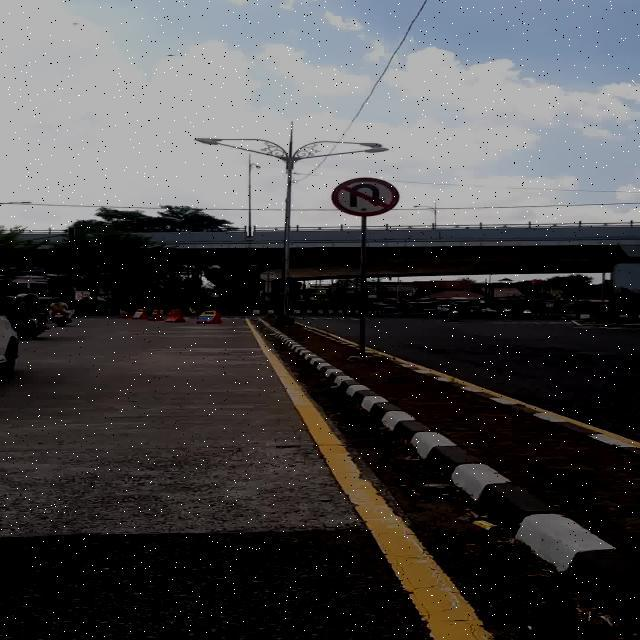Dilarang Putar Balik: (332, 177, 399, 216)
